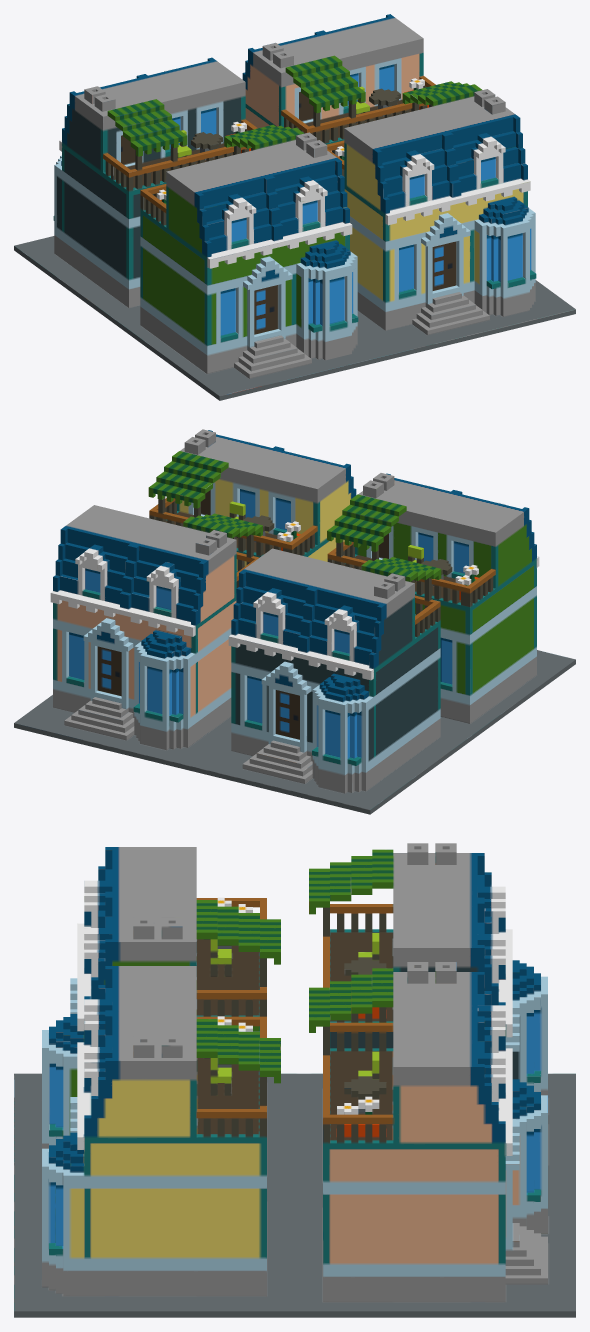
Rendered from building_small_6_overtile.glb.
3 renders of one model, top to bottom at view 1: azimuth 30°, elevation 25°; view 2: azimuth 150°, elevation 25°; view 3: azimuth 270°, elevation 25°, orthographic. The views are drawn at different scales.
Parts seen in each view (by area): view 1: building_small_6_overtile; view 2: building_small_6_overtile; view 3: building_small_6_overtile.
Boxes of the visible parts, left/top/right/bottom form: building_small_6_overtile: left=14, top=14, right=575, bottom=400; building_small_6_overtile: left=14, top=429, right=575, bottom=814; building_small_6_overtile: left=14, top=843, right=575, bottom=1317.
Size of the model in its own units: 8 by 4 by 8.
1 material, 1 textured.
